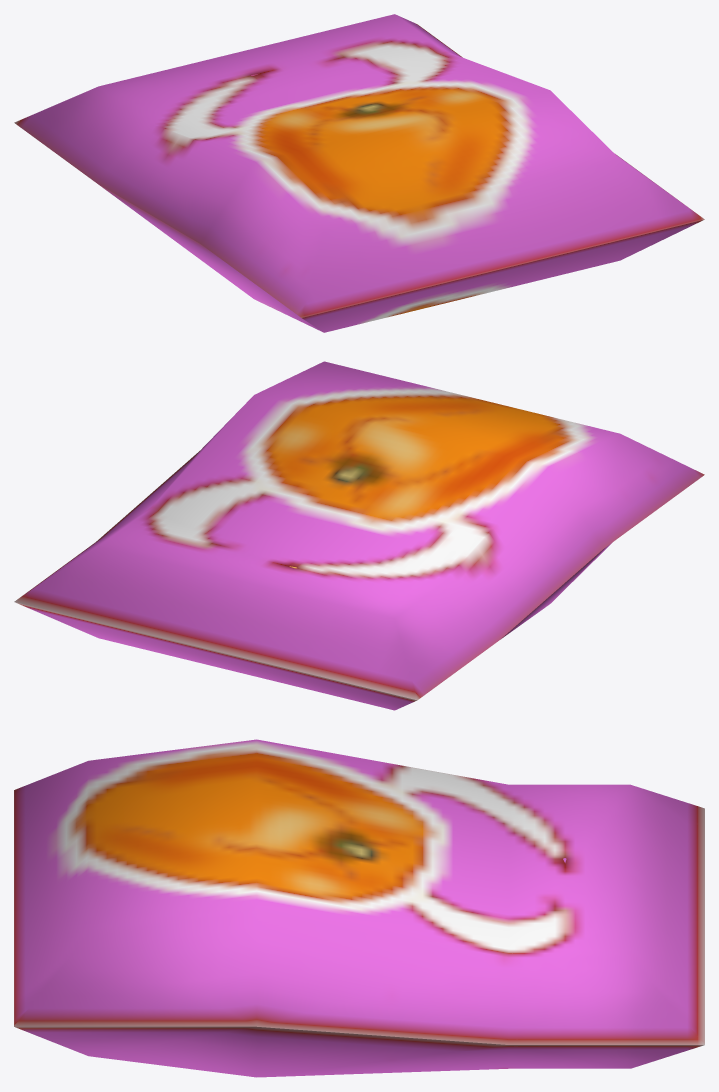
File: giftgoods074h.fbx
3 renders of one model, top to bottom at view 1: azimuth 30°, elevation 25°; view 2: azimuth 150°, elevation 25°; view 3: azimuth 270°, elevation 25°, orthographic. The views are drawn at different scales.
Visible parts, largest first — view 1: giftgoods074h; view 2: giftgoods074h; view 3: giftgoods074h.
Part boxes in pixels (x1=…): giftgoods074h: x1=14, y1=14, x2=704, y2=332; giftgoods074h: x1=14, y1=361, x2=704, y2=710; giftgoods074h: x1=14, y1=739, x2=704, y2=1077.
Bounding box in the file's own units: 0.2616 × 0.0847 × 0.3228.
